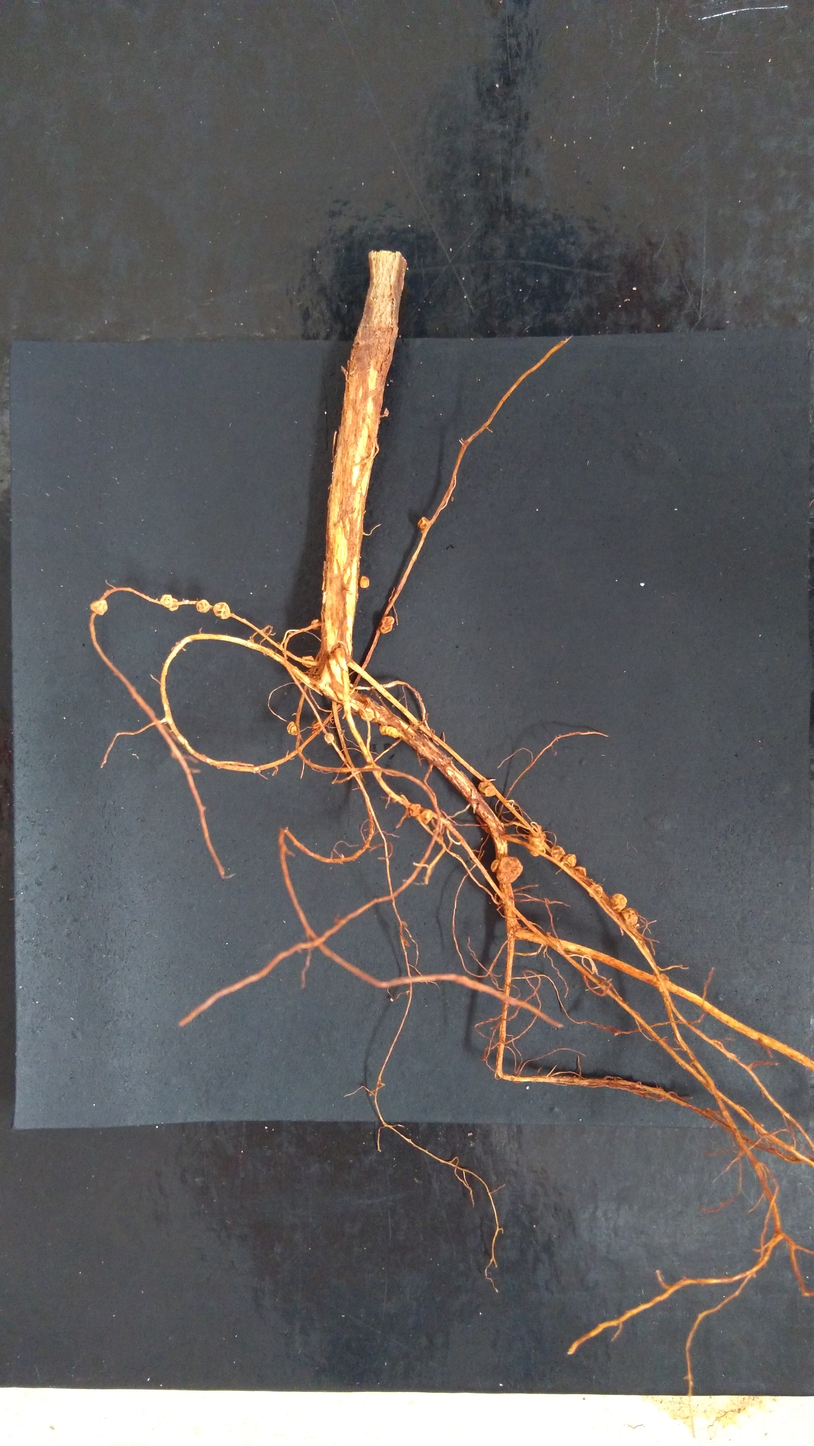nodule: (496, 856, 523, 884), (527, 833, 546, 858), (88, 599, 110, 617), (212, 602, 231, 622), (621, 907, 638, 927), (378, 724, 400, 739), (379, 615, 396, 634), (610, 892, 627, 911), (478, 781, 496, 798), (548, 844, 565, 862), (194, 598, 211, 614), (420, 808, 434, 826), (416, 516, 431, 532), (562, 852, 577, 868), (588, 883, 603, 899), (299, 654, 314, 668), (408, 803, 422, 817), (359, 709, 374, 722), (358, 574, 370, 590), (286, 721, 298, 737), (159, 594, 173, 607), (167, 597, 179, 612), (490, 858, 501, 873), (323, 732, 335, 745), (574, 864, 587, 876), (311, 618, 322, 631), (379, 406, 390, 419), (311, 718, 322, 729), (660, 972, 669, 981), (438, 835, 444, 845)
